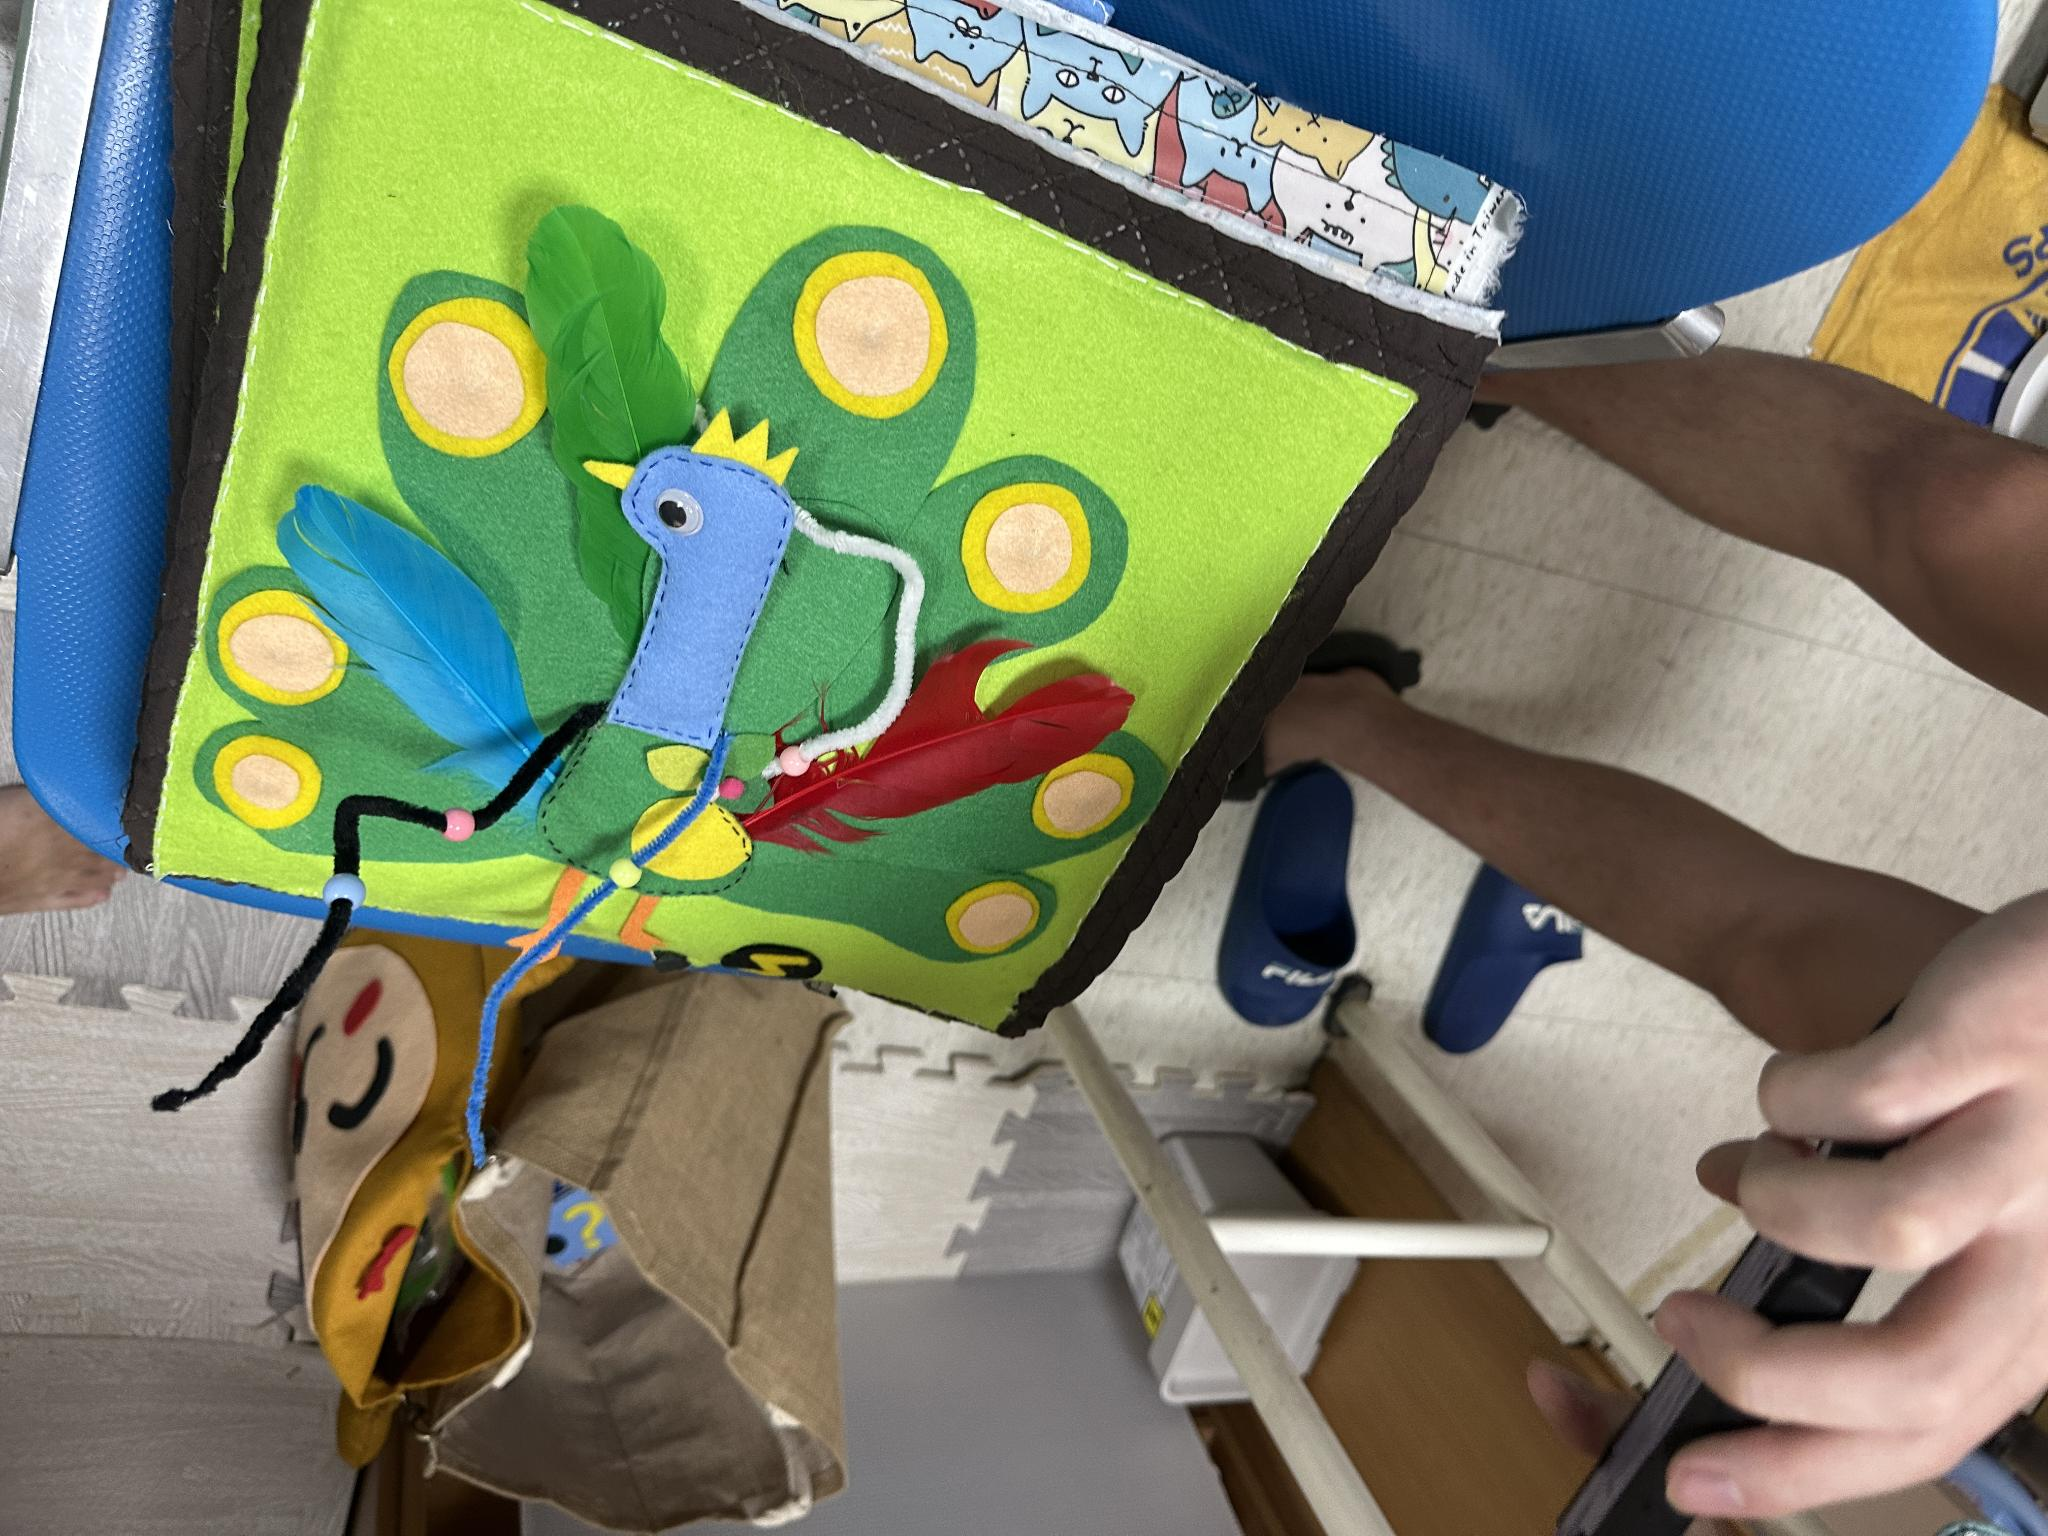bead: (316, 852, 379, 939), (421, 794, 487, 868), (590, 836, 655, 908), (768, 734, 829, 789)
